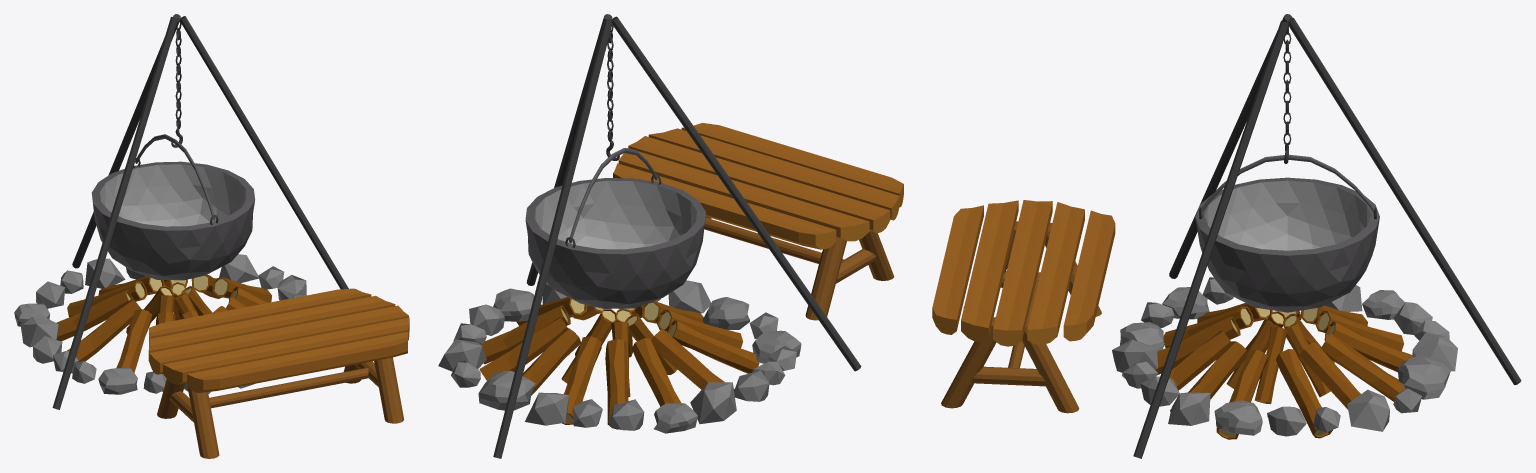
The model's file is cooking_pot.fbx.
3 renders of one model, left to right at view 1: azimuth 30°, elevation 25°; view 2: azimuth 150°, elevation 25°; view 3: azimuth 270°, elevation 25°, orthographic. The views are drawn at different scales.
Parts seen in each view (by area): view 1: Cylinder.751; view 2: Cylinder.751; view 3: Cylinder.751.
Boxes of the visible parts, x1,y1,x2,y2 form: Cylinder.751: [14, 14, 409, 458]; Cylinder.751: [438, 14, 903, 458]; Cylinder.751: [932, 14, 1521, 458].
Bounding box in the file's own units: 6136 × 6062 × 8758.
